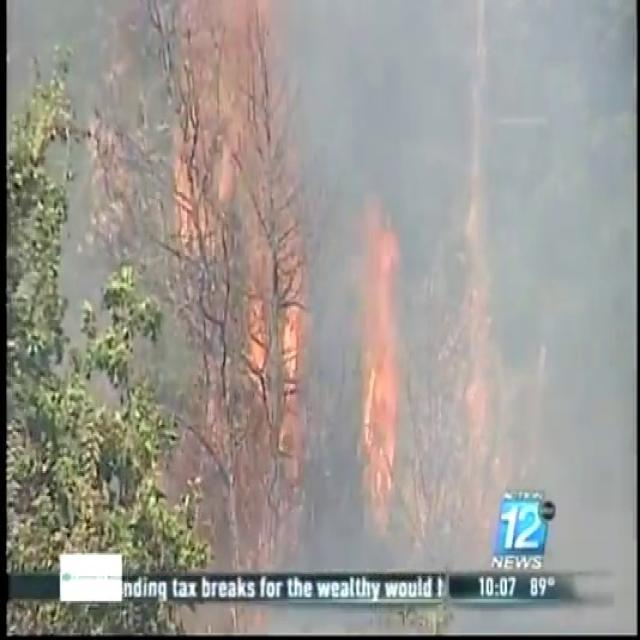Fire: (352, 198, 410, 508)
Smoke: (231, 1, 636, 586)
